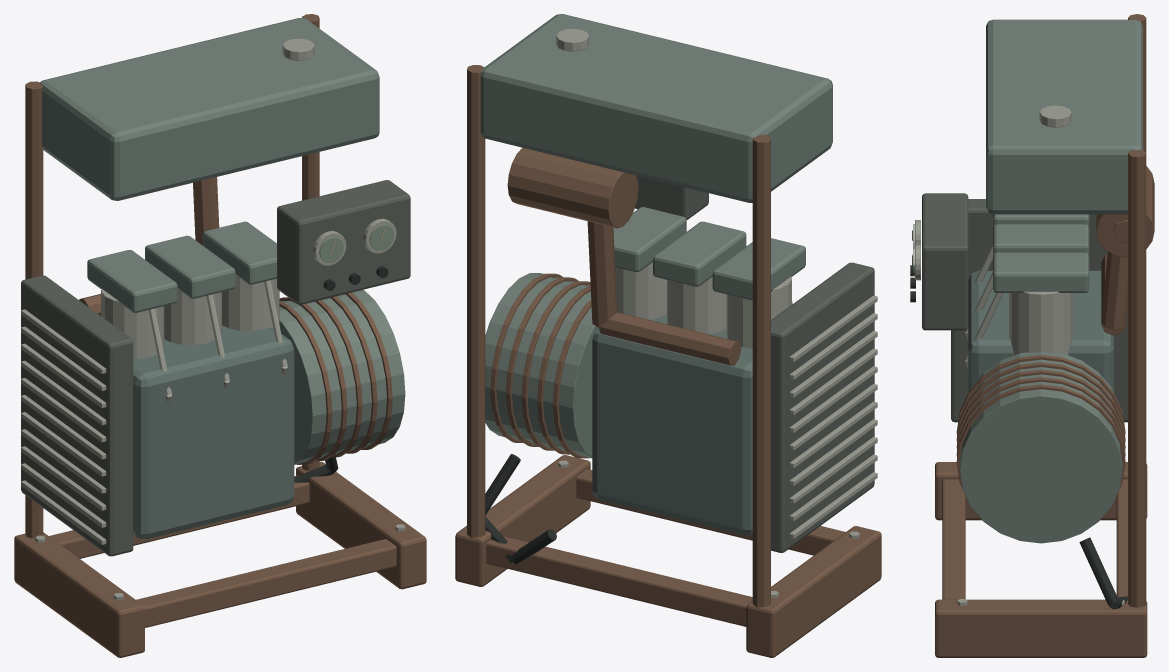
The model's file is diesel_generator.glb.
The picture shows the model from 3 angles, left to right: view 1: azimuth 30°, elevation 25°; view 2: azimuth 150°, elevation 25°; view 3: azimuth 270°, elevation 25°; orthographic projection. The views are drawn at different scales.
Parts seen in each view (by area): view 1: diesel_generator; view 2: diesel_generator; view 3: diesel_generator.
Boxes of the visible parts, box(x1,y1,x2,y2) form: diesel_generator: box(14, 14, 426, 657); diesel_generator: box(455, 14, 881, 657); diesel_generator: box(910, 14, 1154, 657).
Size of the model in its own units: 1.25 by 1.95 by 0.8395.
